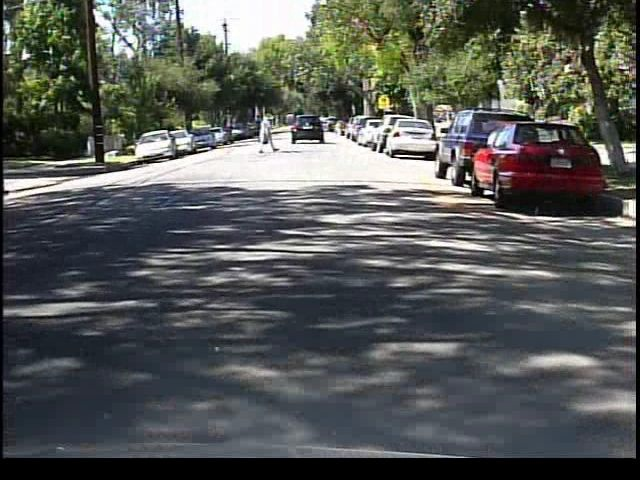person: (253, 111, 279, 158)
